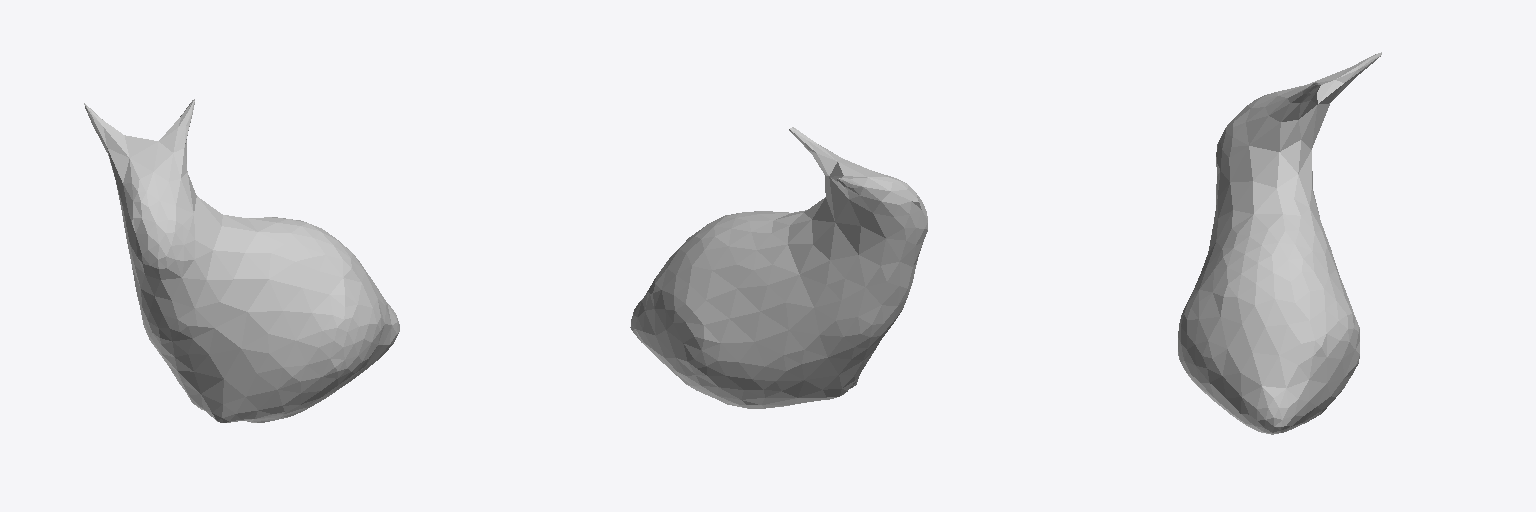
File: bunny_small_smoothed_70.obj
The picture shows the model from 3 angles: view 1: azimuth 30°, elevation 25°; view 2: azimuth 150°, elevation 25°; view 3: azimuth 270°, elevation 25°; orthographic projection.
Size of the model in its own units: 0.1147 by 0.1216 by 0.0738.